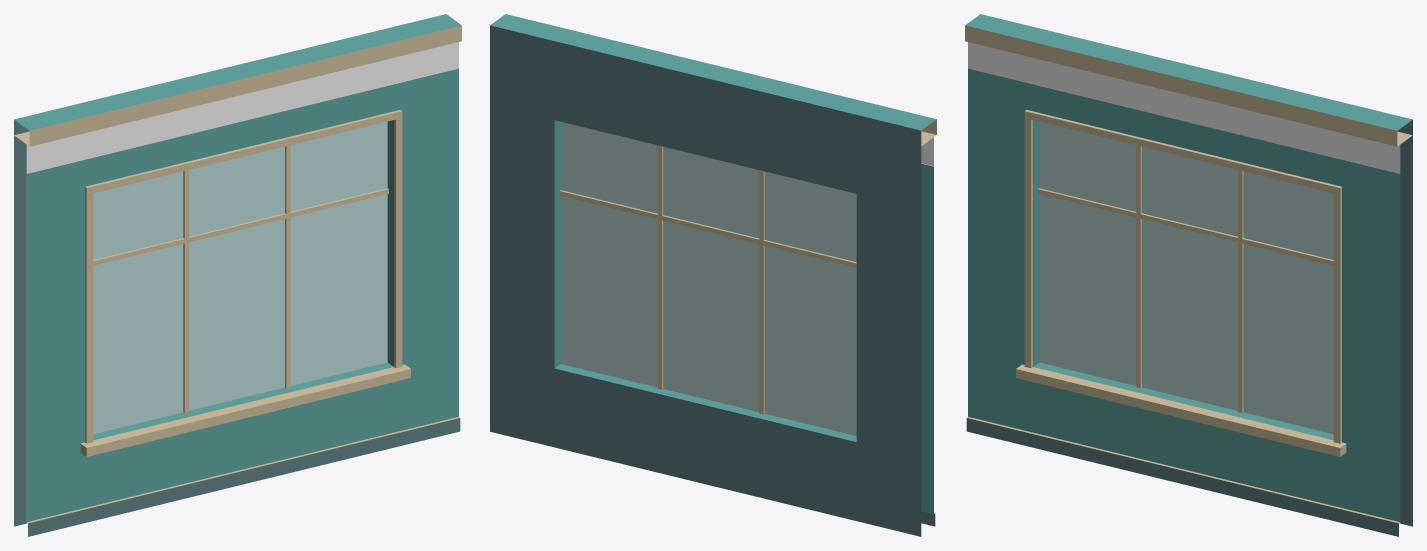
File: KC32__AD_Int_Room_Wall_Window_Coral.glb
3 renders of one model, left to right at view 1: azimuth 30°, elevation 25°; view 2: azimuth 150°, elevation 25°; view 3: azimuth 330°, elevation 25°, orthographic.
Visible parts, largest first — view 1: KC32_CORPS__AD_Int_Room_Wall_Window_Coral, KC32_VITRAGE__AD_Int_Room_Wall_Window_Coral, KC32_BRONZE__AD_Int_Room_Wall_Window_Coral, KC32_ACCENT__AD_Int_Room_Wall_Window_Coral; view 2: KC32_CORPS__AD_Int_Room_Wall_Window_Coral, KC32_VITRAGE__AD_Int_Room_Wall_Window_Coral, KC32_BRONZE__AD_Int_Room_Wall_Window_Coral; view 3: KC32_CORPS__AD_Int_Room_Wall_Window_Coral, KC32_VITRAGE__AD_Int_Room_Wall_Window_Coral, KC32_BRONZE__AD_Int_Room_Wall_Window_Coral, KC32_ACCENT__AD_Int_Room_Wall_Window_Coral.
Part boxes in pixels (x1,y1,x2,y2): KC32_CORPS__AD_Int_Room_Wall_Window_Coral: (14,14,461,536); KC32_VITRAGE__AD_Int_Room_Wall_Window_Coral: (93,121,387,433); KC32_BRONZE__AD_Int_Room_Wall_Window_Coral: (14,25,461,523); KC32_ACCENT__AD_Int_Room_Wall_Window_Coral: (26,42,458,173); KC32_CORPS__AD_Int_Room_Wall_Window_Coral: (490,14,936,536); KC32_VITRAGE__AD_Int_Room_Wall_Window_Coral: (561,122,856,435); KC32_BRONZE__AD_Int_Room_Wall_Window_Coral: (559,119,936,513); KC32_CORPS__AD_Int_Room_Wall_Window_Coral: (965,14,1412,536); KC32_VITRAGE__AD_Int_Room_Wall_Window_Coral: (1039,121,1333,433); KC32_BRONZE__AD_Int_Room_Wall_Window_Coral: (965,25,1412,523); KC32_ACCENT__AD_Int_Room_Wall_Window_Coral: (968,42,1400,173).
Bounding box in the file's own units: 4 × 3.6 × 0.3.
